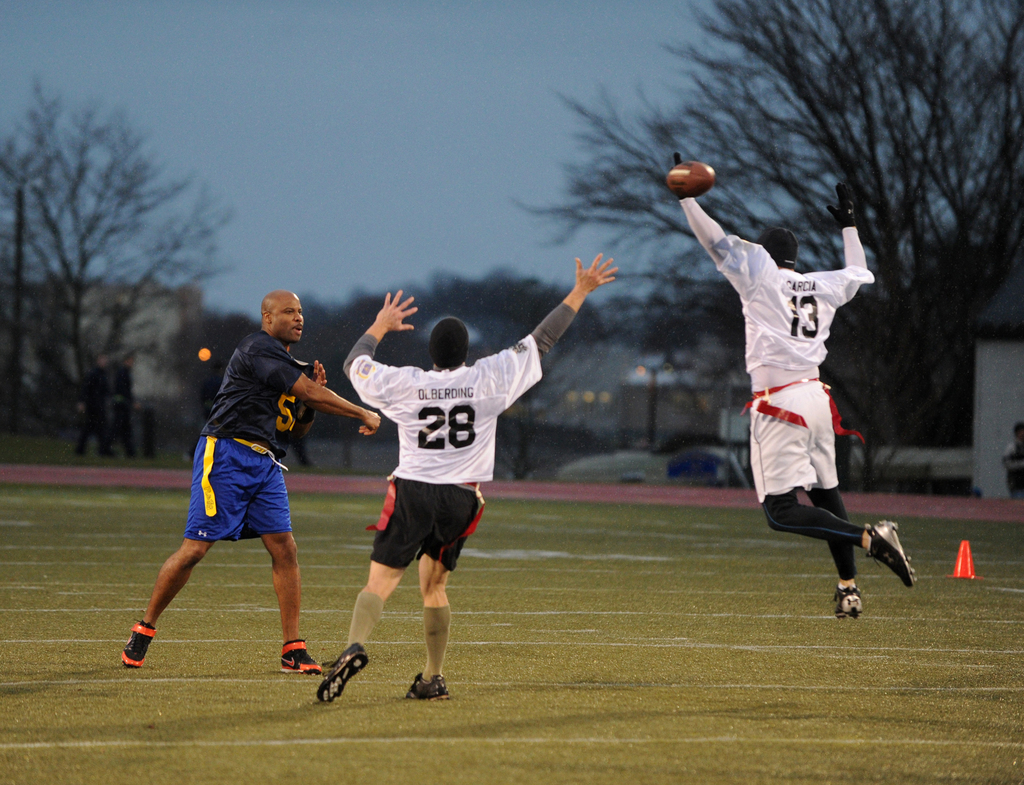Ball: (664, 158, 716, 197)
